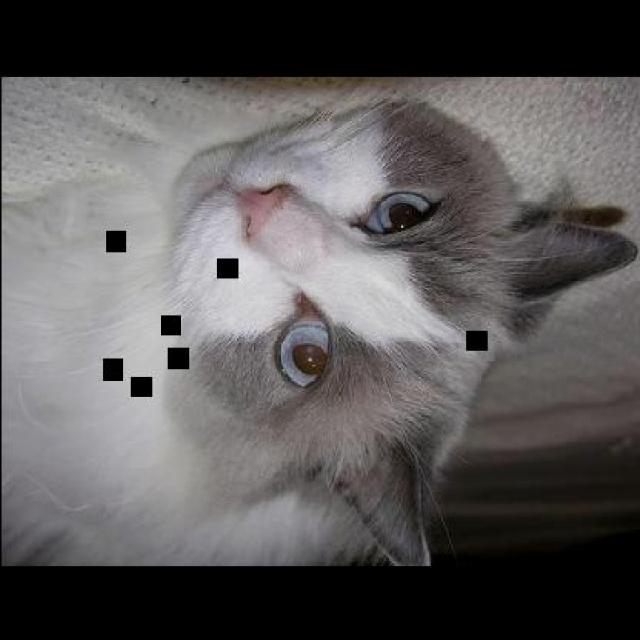unauthorized: (0, 81, 638, 566)
